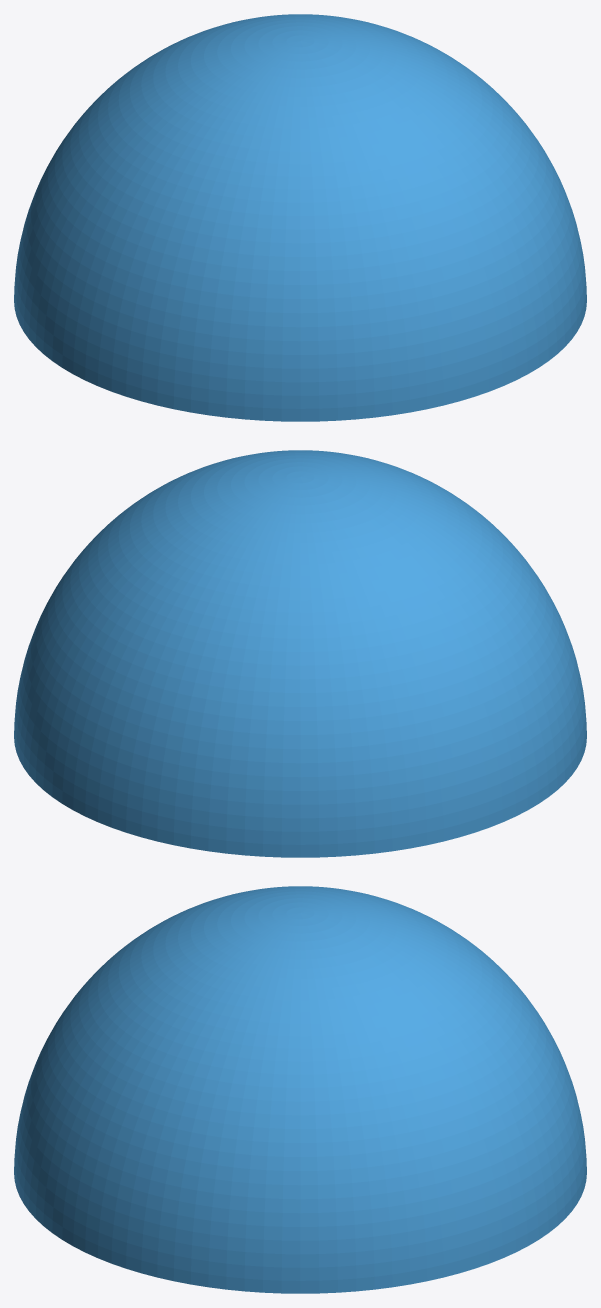
File: Stage_0032.fbx
The picture shows the model from 3 angles, top to bottom: view 1: azimuth 30°, elevation 25°; view 2: azimuth 150°, elevation 25°; view 3: azimuth 270°, elevation 25°; orthographic projection.
Visible parts, largest first — view 1: SKY_DOME; view 2: SKY_DOME; view 3: SKY_DOME.
Boxes of the visible parts, x1,y1,x2,y2 form: SKY_DOME: (14,14,586,421); SKY_DOME: (14,450,586,857); SKY_DOME: (14,886,586,1293).
Bounding box in the file's own units: 13000 × 6518 × 13000.
